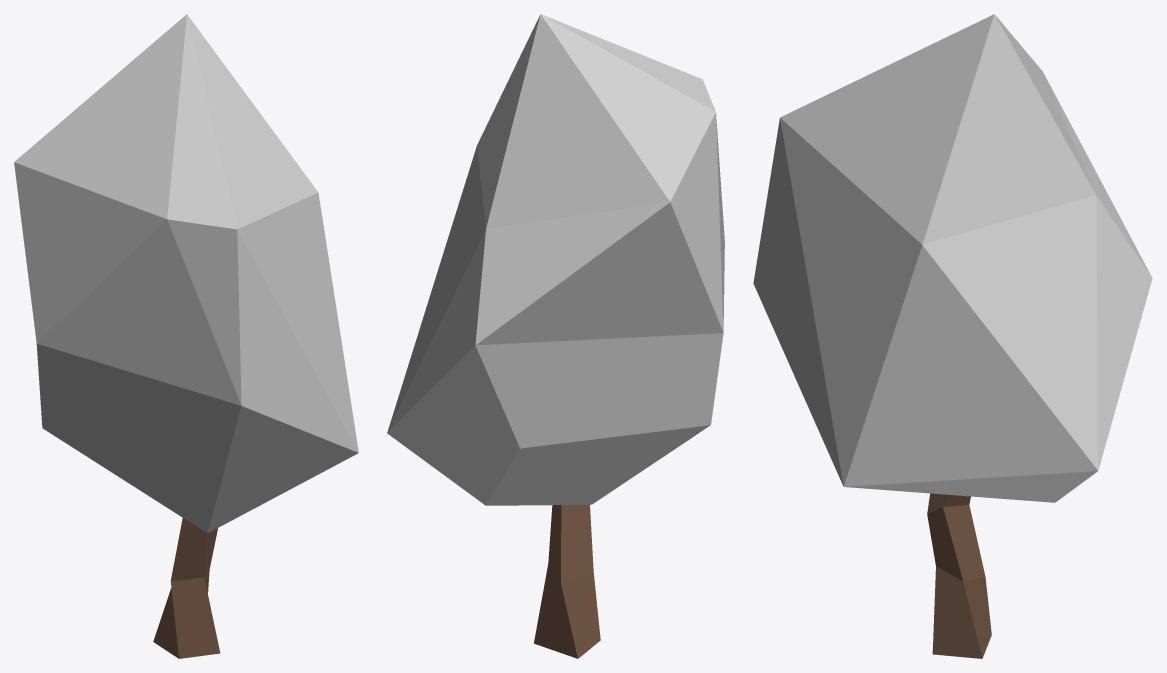
The model's file is Tree_51_White.fbx.
3 renders of one model, left to right at view 1: azimuth 30°, elevation 25°; view 2: azimuth 150°, elevation 25°; view 3: azimuth 270°, elevation 25°, orthographic. The views are drawn at different scales.
Visible parts, largest first — view 1: Tree_51_White_Part_2, Tree_51_White_Part_1; view 2: Tree_51_White_Part_2, Tree_51_White_Part_1; view 3: Tree_51_White_Part_2, Tree_51_White_Part_1.
Part boxes in pixels (box(x1,y1,x2,y2)): Tree_51_White_Part_2: box(14, 14, 358, 533); Tree_51_White_Part_1: box(153, 518, 220, 658); Tree_51_White_Part_2: box(387, 14, 724, 505); Tree_51_White_Part_1: box(534, 504, 600, 658); Tree_51_White_Part_2: box(753, 14, 1152, 502); Tree_51_White_Part_1: box(927, 493, 991, 658).
Size of the model in its own units: 257 by 577 by 327.
